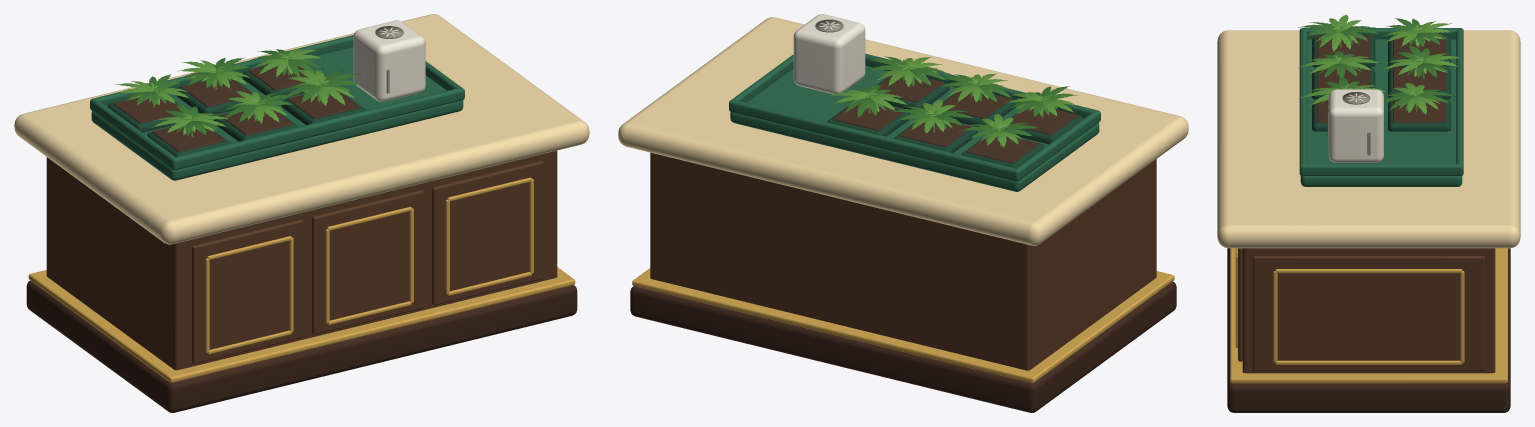
File: seeds_bench.glb
3 views of the same model, side by side, from view 1: azimuth 30°, elevation 25°; view 2: azimuth 150°, elevation 25°; view 3: azimuth 270°, elevation 25° (orthographic). The views are drawn at different scales.
Visible parts, largest first — view 1: Top, Body, Plinth, Panel0, Panel1, Panel2, PlinthBrass, Tray, Humidifier, TrayRim1, TrayRim0, TrayRim3 (+10 smaller); view 2: Body, Top, Plinth, Tray, PlinthBrass, Humidifier, TrayRim0, TrayRim3, Soil10, Soil00, Soil01, Soil12 (+9 smaller); view 3: Top, EndPanel, Plinth, Tray, PlinthBrass, Body, Humidifier, TrayRim2, TrayRim0, TrayRim1, EndFrameH0.61, EndFrameH0.21 (+29 smaller).
Boxes of the visible parts, x1=… form: Top: x1=14, y1=14, x2=589, y2=244; Body: x1=46, y1=150, x2=557, y2=370; Plinth: x1=26, y1=280, x2=577, y2=412; Panel0: x1=192, y1=219, x2=303, y2=363; Panel1: x1=312, y1=190, x2=423, y2=334; Panel2: x1=432, y1=161, x2=543, y2=305; PlinthBrass: x1=28, y1=267, x2=575, y2=382; Tray: x1=91, y1=47, x2=463, y2=180; Humidifier: x1=353, y1=20, x2=425, y2=101; TrayRim1: x1=171, y1=88, x2=464, y2=170; TrayRim0: x1=90, y1=35, x2=353, y2=109; TrayRim3: x1=91, y1=99, x2=175, y2=168; Body: x1=650, y1=152, x2=1156, y2=370; Top: x1=618, y1=17, x2=1188, y2=245; Plinth: x1=630, y1=281, x2=1176, y2=412; Tray: x1=730, y1=65, x2=1099, y2=191; PlinthBrass: x1=632, y1=268, x2=1174, y2=383; Humidifier: x1=793, y1=14, x2=865, y2=94; TrayRim0: x1=729, y1=99, x2=1020, y2=181; TrayRim3: x1=1016, y1=111, x2=1099, y2=179; Soil10: x1=966, y1=136, x2=1039, y2=163; Soil00: x1=1010, y1=108, x2=1077, y2=135; Soil01: x1=941, y1=91, x2=1010, y2=118; Soil12: x1=832, y1=103, x2=903, y2=130; Top: x1=1217, y1=30, x2=1520, y2=248; EndPanel: x1=1252, y1=255, x2=1485, y2=370; Plinth: x1=1227, y1=248, x2=1510, y2=412; Tray: x1=1300, y1=39, x2=1462, y2=186; PlinthBrass: x1=1230, y1=248, x2=1507, y2=383; Body: x1=1242, y1=248, x2=1495, y2=373; Humidifier: x1=1328, y1=89, x2=1383, y2=162; TrayRim2: x1=1303, y1=163, x2=1459, y2=176; TrayRim0: x1=1456, y1=28, x2=1463, y2=176; TrayRim1: x1=1299, y1=28, x2=1306, y2=176; EndFrameH0.61: x1=1275, y1=269, x2=1462, y2=273; EndFrameH0.21: x1=1275, y1=360, x2=1462, y2=364.
Bounding box in the file's own units: 1.9 × 1.13 × 1.2.
